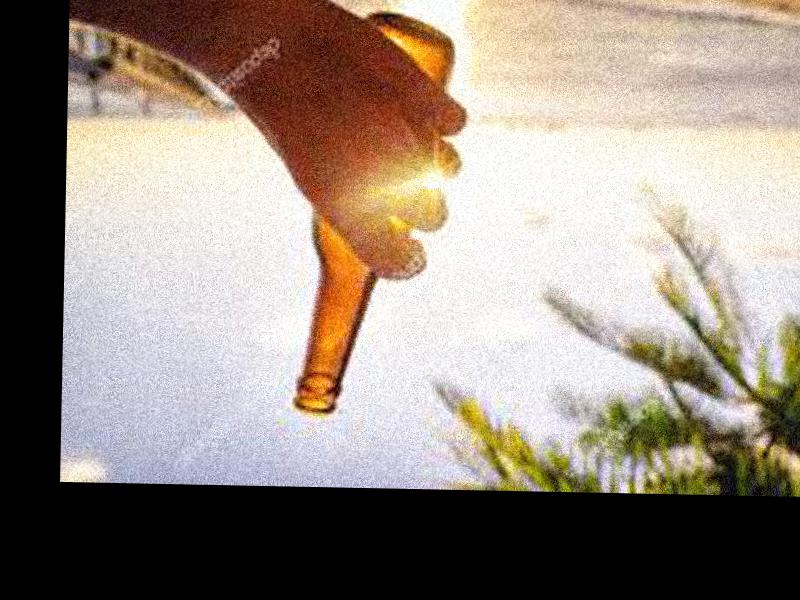Beer: (292, 11, 455, 417)
